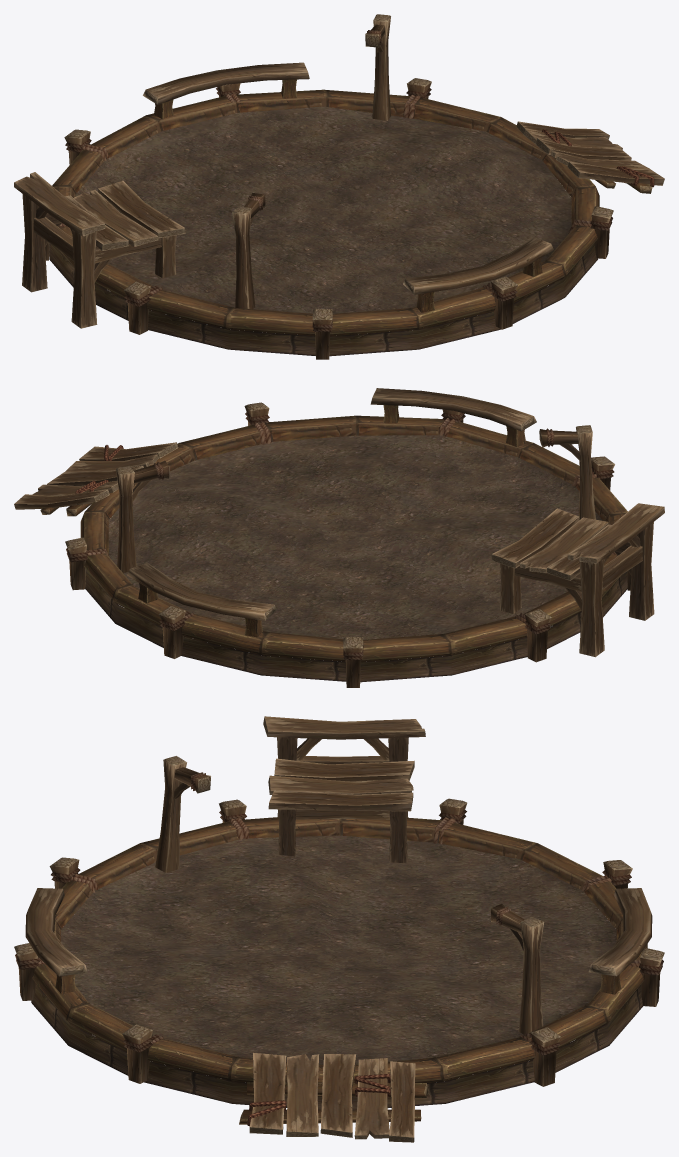
Rendered from Arena-Hierro.glb.
3 renders of one model, top to bottom at view 1: azimuth 30°, elevation 25°; view 2: azimuth 150°, elevation 25°; view 3: azimuth 270°, elevation 25°, orthographic. The views are drawn at different scales.
Parts seen in each view (by area): view 1: 6hu_garrison_petstable_v1; view 2: 6hu_garrison_petstable_v1; view 3: 6hu_garrison_petstable_v1.
Part boxes in pixels (<box>): 6hu_garrison_petstable_v1: <box>14,14,664,359</box>; 6hu_garrison_petstable_v1: <box>14,388,664,687</box>; 6hu_garrison_petstable_v1: <box>14,716,664,1142</box>.
Size of the model in its own units: 22.38 by 4.68 by 19.28.
6 materials, 6 textured.
